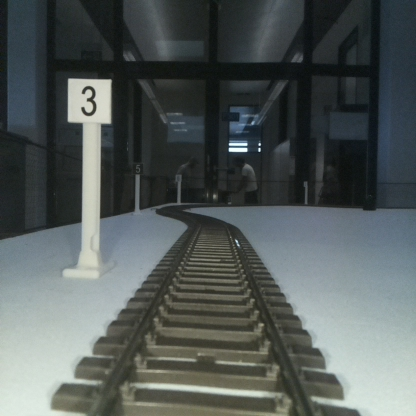black-info-5: (131, 162, 143, 217)
white-info-3: (68, 78, 111, 274)
